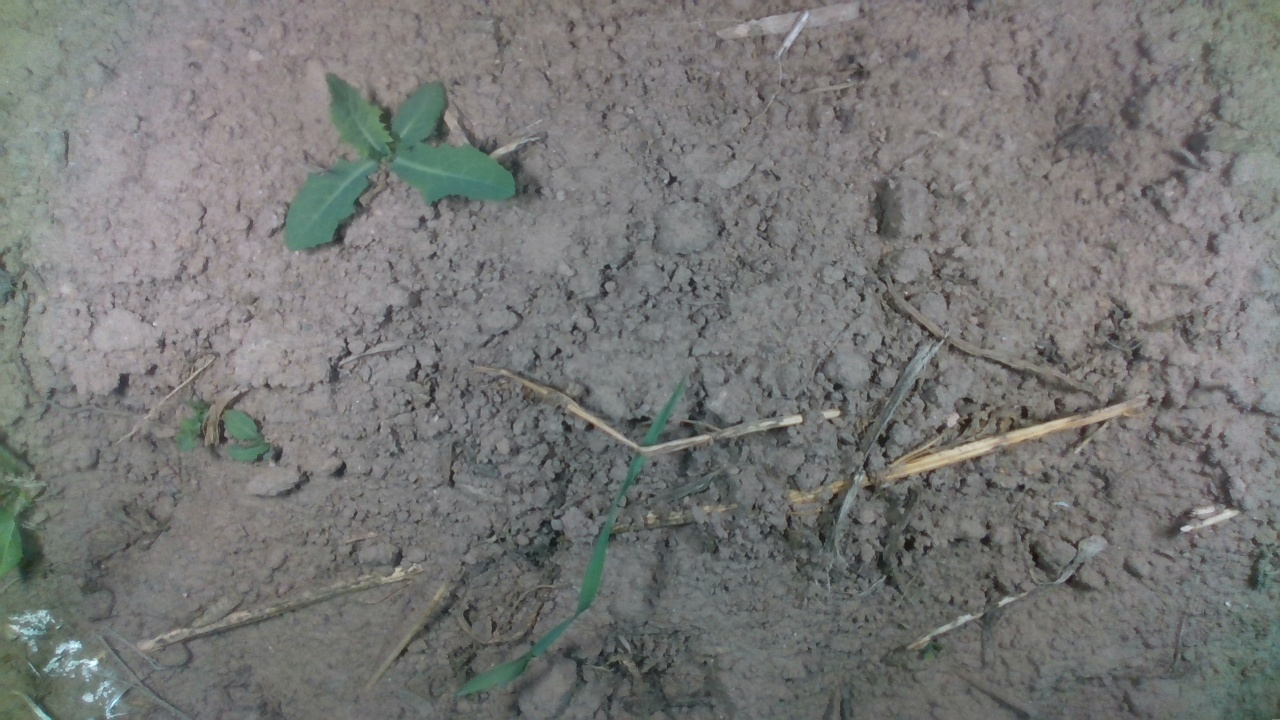weed: (280, 72, 519, 252)
